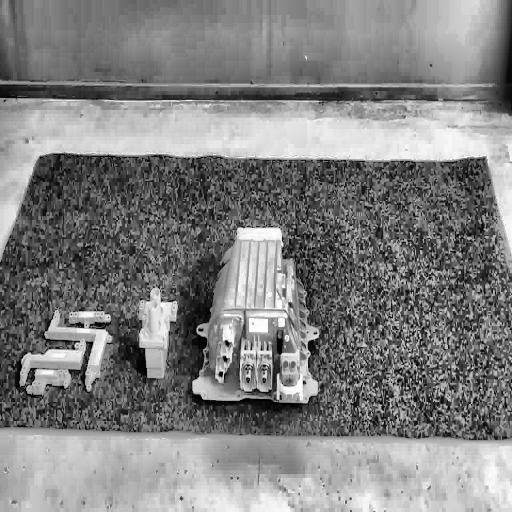bms_unit: (191, 227, 320, 405)
busbar: (17, 309, 112, 398)
connector: (138, 284, 178, 381)
